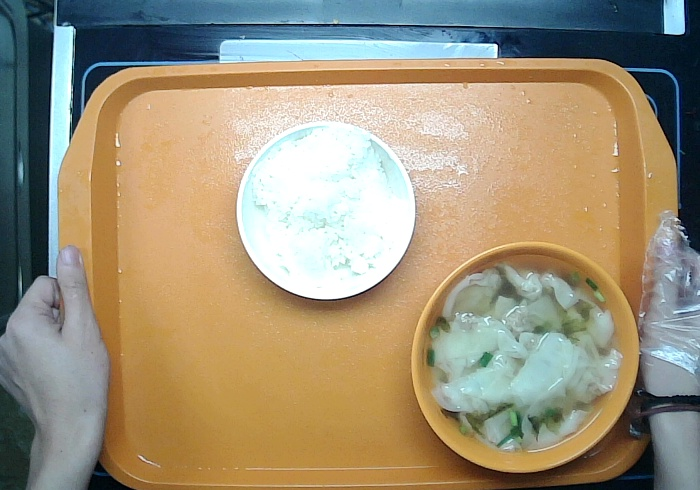NLDX-Fan_Wan: (234, 122, 423, 305)
NLDX-Hun_Tun_Wan: (407, 238, 659, 487)
